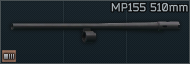MP-155 510mm barrel: (0, 0, 190, 64)
